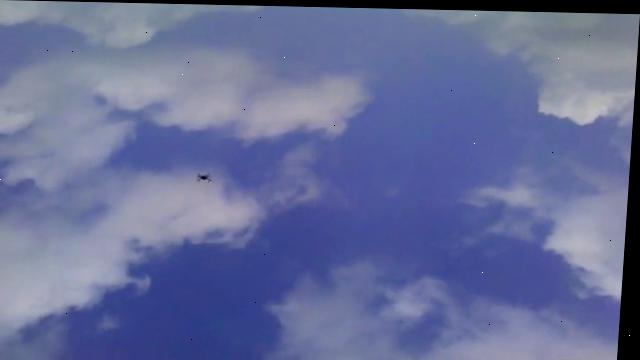drone: (195, 172, 216, 186)
